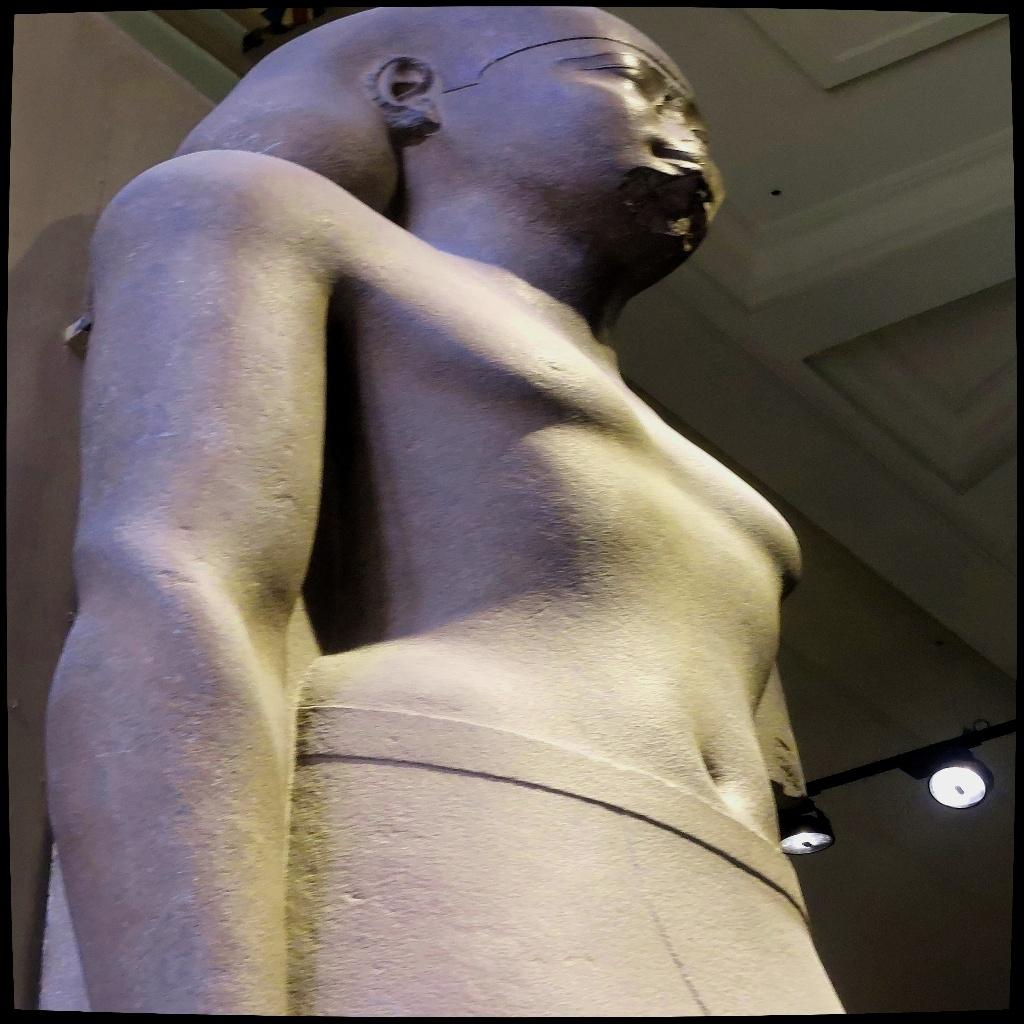Colossal Statue of Hormoheb: (30, 8, 857, 1012)
